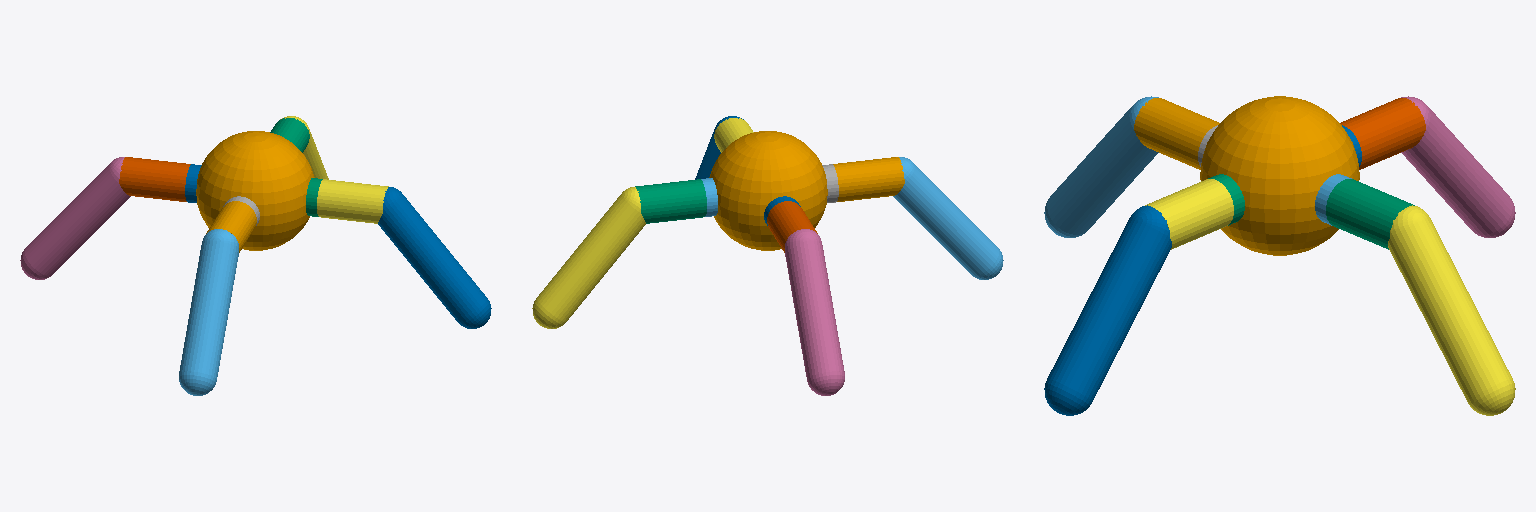
robot.urdf — robot:
<?xml version="0.0" ?>
<robot name="">
	<link name="torso">
		<inertial>
			<origin rpy="0.0 0.0 0.0" xyz="0.0 0.0 0.0"/>
			<mass value="0.32724923"/>
			<inertia ixx="0.00818123" ixy="0.0" ixz="0.0" iyy="0.00818123" iyz="0.0" izz="0.00818123"/>
		</inertial>
		<visual>
			<origin rpy="0.0 0.0 0.0" xyz="0.0 0.0 0.0"/>
			<geometry>
				<sphere radius="0.25"/>
			</geometry>
		</visual>
		<collision>
			<origin rpy="0.0 0.0 0.0" xyz="0.0 0.0 0.0"/>
			<geometry>
				<sphere radius="0.25"/>
			</geometry>
		</collision>
	</link>
	<link name="front_left_leg">
		<inertial>
			<origin rpy="1.57079633 -0.78539816 -0.78539816" xyz="0.10 0.10 0.0"/>
			<mass value="0.03647693"/>  <!-- capsule volume * density : pi * radius ** 2 * ((4/3) * radius + length) * density -->
			<inertia ixx="0.00045856" ixy="0.0" ixz="0.0" iyy="0.00045856" iyz="0.0" izz="0.00011673"/>
		</inertial>
		<visual>
			<origin rpy="1.57079633 -0.78539816 -0.78539816" xyz="0.10 0.10 0.0"/>  <!-- rpy : (-pi/2, pi/4, -pi/4) -->
			<geometry>
				<cylinder length="0.28284" radius="0.08"/>
			</geometry>
		</visual>
	</link>
	<link name="aux_1">
		<inertial>
			<origin rpy="1.57079633 -0.78539816 -0.78539816" xyz="0.10 0.10 0.0"/>
			<mass value="0.03647693"/>
			<inertia ixx="0.00045856" ixy="0.0" ixz="0.0" iyy="0.00045856" iyz="0.0" izz="0.00011673"/>
		</inertial>
		<visual>
			<origin rpy="1.57079633 -0.78539816 -0.78539816" xyz="0.0 0.0 0.0"/>
			<geometry>
				<sphere radius="0.08"/>
			</geometry>
		</visual>
		<visual>
			<origin rpy="1.57079633 -0.78539816 -0.78539816" xyz="0.10 0.10 0.0"/>
			<geometry>
				<cylinder length="0.28284" radius="0.08"/>
			</geometry>
		</visual>
	</link>
	<link name="foot_1">
		<inertial>
			<origin rpy="1.57079633 -0.78539816 -0.78539816" xyz="0.20 0.20 0.0"/>
			<mass value="0.06491138"/>
			<inertia ixx="0.00235904" ixy="0.0" ixz="0.0" iyy="0.00235904" iyz="0.0" izz="0.00020772"/>
		</inertial>
		<visual>
			<origin rpy="0.0 0.0 0.0" xyz="0.0 0.0 0.0"/>
			<geometry>
				<sphere radius="0.08"/>
			</geometry>
		</visual>
		<visual>
			<origin rpy="1.57079633 -0.78539816 -0.78539816" xyz="0.20 0.20 0.0"/>
			<geometry>
				<cylinder length="0.56569" radius="0.08"/>
			</geometry>
		</visual>
		<visual>
			<origin rpy="1.57079633 -0.78539816 -0.78539816" xyz="0.40 0.40 0.0"/>
			<geometry>
				<sphere radius="0.08"/>
			</geometry>
		</visual>
		<collision>
			<origin rpy="0.0 0.0 0.0" xyz="0.0 0.0 0.0"/>
			<geometry>
				<sphere radius="0.08"/>
			</geometry>
		</collision>
		<collision>
			<origin rpy="1.57079633 -0.78539816 -0.78539816" xyz="0.40 0.40 0.0"/>
			<geometry>
				<sphere radius="0.08"/>
			</geometry>
		</collision>
	</link>
	<link name="front_right_leg">
		<inertial>
			<origin rpy="1.57079633 0.78539816 0.78539816" xyz="-0.10 0.10 0.0"/>
			<mass value="0.03647693"/>
			<inertia ixx="0.00045856" ixy="0.0" ixz="0.0" iyy="0.00045856" iyz="0.0" izz="0.00011673"/>
		</inertial>
		<visual>
			<origin rpy="1.57079633 0.78539816 0.78539816" xyz="-0.10 0.10 0.0"/>
			<geometry>
				<cylinder length="0.28284" radius="0.08"/>
			</geometry>
		</visual>
	</link>
	<link name="aux_2">
		<inertial>
			<origin rpy="1.57079633 0.78539816 0.78539816" xyz="-0.10 0.10 0.0"/>
			<mass value="0.03647693"/>
			<inertia ixx="0.00045856" ixy="0.0" ixz="0.0" iyy="0.00045856" iyz="0.0" izz="0.00011673"/>
		</inertial>
		<visual>
			<origin rpy="1.57079633 0.78539816 0.78539816" xyz="0.0 0.0 0.0"/>
			<geometry>
				<sphere radius="0.08"/>
			</geometry>
		</visual>
		<visual>
			<origin rpy="1.57079633 0.78539816 0.78539816" xyz="-0.10 0.10 0.0"/>
			<geometry>
				<cylinder length="0.28284" radius="0.08"/>
			</geometry>
		</visual>
	</link>
	<link name="foot_2">
		<inertial>
			<origin rpy="1.57079633 0.78539816 0.78539816" xyz="-0.20 0.20 0.0"/>
			<mass value="0.06491138"/>
			<inertia ixx="0.00235904" ixy="0.0" ixz="0.0" iyy="0.00235904" iyz="0.0" izz="0.00020772"/>
		</inertial>
		<visual>
			<origin rpy="0.0 0.0 0.0" xyz="0.0 0.0 0.0"/>
			<geometry>
				<sphere radius="0.08"/>
			</geometry>
		</visual>
		<visual>
			<origin rpy="1.57079633 0.78539816 0.78539816" xyz="-0.20 0.20 0.0"/>
			<geometry>
				<cylinder length="0.56569" radius="0.08"/>  <!-- length = sqrt(2) * 0.4  -->
			</geometry>
		</visual>
		<visual>
			<origin rpy="1.57079633 0.78539816 0.78539816" xyz="-0.40 0.40 0.0"/>
			<geometry>
				<sphere radius="0.08"/>
			</geometry>
		</visual>
		<collision>
			<origin rpy="0.0 0.0 0.0" xyz="0.0 0.0 0.0"/>
			<geometry>
				<sphere radius="0.08"/>
			</geometry>
		</collision>
		<collision>
			<origin rpy="1.57079633 0.78539816 0.78539816" xyz="-0.40 0.40 0.0"/>
			<geometry>
				<sphere radius="0.08"/>
			</geometry>
		</collision>
	</link>
	<link name="back_leg">
		<inertial>
			<origin rpy="-1.57079633 0.78539816 -0.78539816" xyz="-0.10 -0.10 0.0"/>
			<mass value="0.03647693"/>
			<inertia ixx="0.00045856" ixy="0.0" ixz="0.0" iyy="0.00045856" iyz="0.0" izz="0.00011673"/>
		</inertial>
		<visual>
			<origin rpy="-1.57079633 0.78539816 -0.78539816" xyz="-0.10 -0.10 0.0"/>
			<geometry>
				<cylinder length="0.28284" radius="0.08"/>  <!-- length = sqrt(2) * 0.2  -->
			</geometry>
		</visual>
	</link>
	<link name="aux_3">
		<inertial>
			<origin rpy="-1.57079633 0.78539816 -0.78539816" xyz="-0.10 -0.10 0.0"/>
			<mass value="0.03647693"/>
			<inertia ixx="0.00045856" ixy="0.0" ixz="0.0" iyy="0.00045856" iyz="0.0" izz="0.00011673"/>
		</inertial>
		<visual>
			<origin rpy="-1.57079633 0.78539816 -0.78539816" xyz="0.0 0.0 0.0"/>
			<geometry>
				<sphere radius="0.08"/>
			</geometry>
		</visual>
		<visual>
			<origin rpy="-1.57079633 0.78539816 -0.78539816" xyz="-0.10 -0.10 0.0"/>
			<geometry>
				<cylinder length="0.28284" radius="0.08"/>
			</geometry>
		</visual>
	</link>
	<link name="foot_3">
		<inertial>
			<origin rpy="-1.57079633 0.78539816 -0.78539816" xyz="-0.20 -0.20 0.0"/>
			<mass value="0.06491138"/>
			<inertia ixx="0.00235904" ixy="0.0" ixz="0.0" iyy="0.00235904" iyz="0.0" izz="0.00020772"/>
		</inertial>
		<visual>
			<origin rpy="0.0 0.0 0.0" xyz="0.0 0.0 0.0"/>
			<geometry>
				<sphere radius="0.08"/>
			</geometry>
		</visual>
		<visual>
			<origin rpy="-1.57079633 0.78539816 -0.78539816" xyz="-0.20 -0.20 0.0"/>
			<geometry>
				<cylinder length="0.56569" radius="0.08"/>
			</geometry>
		</visual>
		<visual>
			<origin rpy="-1.57079633 0.78539816 -0.78539816" xyz="-0.40 -0.40 0.0"/>
			<geometry>
				<sphere radius="0.08"/>
			</geometry>
		</visual>
		<collision>
			<origin rpy="0.0 0.0 0.0" xyz="0.0 0.0 0.0"/>
			<geometry>
				<sphere radius="0.08"/>
			</geometry>
		</collision>
		<collision>
			<origin rpy="-1.57079633 0.78539816 -0.78539816" xyz="-0.40 -0.40 0.0"/>
			<geometry>
				<sphere radius="0.08"/>
			</geometry>
		</collision>
	</link>
	<link name="right_back_leg">
		<inertial>
			<origin rpy="-1.57079633 -0.78539816 0.78539816" xyz="0.10 -0.10 0.0"/>
			<mass value="0.03647693"/>
			<inertia ixx="0.00045856" ixy="0.0" ixz="0.0" iyy="0.00045856" iyz="0.0" izz="0.00011673"/>
		</inertial>
		<visual>
			<origin rpy="-1.57079633 -0.78539816 0.78539816" xyz="0.10 -0.10 0.0"/>
			<geometry>
				<cylinder length="0.28284" radius="0.08"/>
			</geometry>
		</visual>
	</link>
	<link name="aux_4">
		<inertial>
			<origin rpy="-1.57079633 -0.78539816 0.78539816" xyz="0.10 -0.10 0.0"/>
			<mass value="0.03647693"/>
			<inertia ixx="0.00045856" ixy="0.0" ixz="0.0" iyy="0.00045856" iyz="0.0" izz="0.00011673"/>
		</inertial>
		<visual>
			<origin rpy="-1.57079633 -0.78539816 0.78539816" xyz="0.0 0.0 0.0"/>
			<geometry>
				<sphere radius="0.08"/>
			</geometry>
		</visual>
		<visual>
			<origin rpy="-1.57079633 -0.78539816 0.78539816" xyz="0.10 -0.10 0.0"/>
			<geometry>
				<cylinder length="0.28284" radius="0.08"/>
			</geometry>
		</visual>
	</link>
	<link name="foot_4">
		<inertial>
			<origin rpy="-1.57079633 -0.78539816 0.78539816" xyz="0.20 -0.20 0.0"/>
			<mass value="0.06491138"/>
			<inertia ixx="0.00235904" ixy="0.0" ixz="0.0" iyy="0.00235904" iyz="0.0" izz="0.00020772"/>
		</inertial>
		<visual>
			<origin rpy="0.0 0.0 0.0" xyz="0.0 0.0 0.0"/>
			<geometry>
				<sphere radius="0.08"/>
			</geometry>
		</visual>
		<visual>
			<origin rpy="-1.57079633 -0.78539816 0.78539816" xyz="0.20 -0.20 0.0"/>
			<geometry>
				<cylinder length="0.56569" radius="0.08"/>
			</geometry>
		</visual>
		<visual>
			<origin rpy="-1.57079633 -0.78539816 0.78539816" xyz="0.40 -0.40 0.0"/>
			<geometry>
				<sphere radius="0.08"/>
			</geometry>
		</visual>
		<collision>
			<origin rpy="0.0 0.0 0.0" xyz="0.0 0.0 0.0"/>
			<geometry>
				<sphere radius="0.08"/>
			</geometry>
		</collision>
		<collision>
			<origin rpy="-1.57079633 -0.78539816 0.78539816" xyz="0.40 -0.40 0.0"/>
			<geometry>
				<sphere radius="0.08"/>
			</geometry>
		</collision>
	</link>

	<joint name="leg_1" type="fixed">
		<origin rpy="0.0 0.0 0.0" xyz="0.0 0.0 0.0"/>
		<parent link="torso"/>
		<child link="front_left_leg"/>
	</joint>
	<joint name="hip_1" type="revolute">
		<origin rpy="0.0 0.0 0.0" xyz="0.20 0.20 0.0"/>
		<axis xyz="0 0 1"/>
		<parent link="front_left_leg"/>
		<child link="aux_1"/>
    	<limit effort="150.0" velocity="1000.0" lower="-0.5236" upper="0.5236"/>  <!-- +/- 30 degrees | no velocity limit -->
	</joint>
	<joint name="ankle_1" type="revolute">
		<origin rpy="0.0 0.0 0.0" xyz="0.20 0.20 0.0"/>
		<axis xyz="-1 1 0"/>
		<parent link="aux_1"/>
		<child link="foot_1"/>
    	<limit effort="150.0" velocity="1000.0" lower="0.5236" upper="1.2217"/>  <!-- 30/70 degrees | no velocity limit -->
	</joint>
	<joint name="tip_joint_1" type="fixed">
		<origin rpy="1.57079633 -0.78539816 -0.78539816" xyz="0.40 0.40 0.0"/>
		<parent link="foot_1"/>
		<child link="tip_1"/>
	</joint>
	<link name="tip_1"/>
	<joint name="leg_2" type="fixed">
		<origin rpy="0.0 0.0 0.0" xyz="0.0 0.0 0.0"/>
		<parent link="torso"/>
		<child link="front_right_leg"/>
	</joint>
	<joint name="hip_2" type="revolute">
		<origin rpy="0.0 0.0 0.0" xyz="-0.20 0.20 0.0"/>
		<axis xyz="0 0 1"/>
		<parent link="front_right_leg"/>
		<child link="aux_2"/>
    	<limit effort="150.0" velocity="1000.0" lower="-0.5236" upper="0.5236"/>  <!-- +/- 30 degrees | no velocity limit -->
	</joint>
	<joint name="ankle_2" type="revolute">
		<origin rpy="0.0 0.0 0.0" xyz="-0.20 0.20 0.0"/>
		<axis xyz="1 1 0"/>
		<parent link="aux_2"/>
		<child link="foot_2"/>
    	<limit effort="150.0" velocity="1000.0" lower="-1.2217" upper="-0.5236"/>  <!-- -70/-30 degrees | no velocity limit -->
	</joint>
	<joint name="tip_joint_2" type="fixed">
		<origin rpy="1.57079633 0.78539816 0.78539816" xyz="-0.40 0.40 0.0"/>
		<parent link="foot_2"/>
		<child link="tip_2"/>
	</joint>
	<link name="tip_2"/>
	<joint name="leg_3" type="fixed">
		<origin rpy="0.0 0.0 0.0" xyz="0.0 0.0 0.0"/>
		<parent link="torso"/>
		<child link="back_leg"/>
	</joint>
	<joint name="hip_3" type="revolute">
		<origin rpy="0.0 0.0 0.0" xyz="-0.20 -0.20 0.0"/>
		<axis xyz="0 0 1"/>
		<parent link="back_leg"/>
		<child link="aux_3"/>
    	<limit effort="150.0" velocity="1000.0" lower="-0.5236" upper="0.5236"/>  <!-- +/- 30 degrees | no velocity limit -->
	</joint>
	<joint name="ankle_3" type="revolute">
		<origin rpy="0.0 0.0 0.0" xyz="-0.20 -0.20 0.0"/>
		<axis xyz="-1 1 0"/>
		<parent link="aux_3"/>
		<child link="foot_3"/>
    	<limit effort="150.0" velocity="1000.0" lower="-1.2217" upper="-0.5236"/>  <!-- -70/-30 degrees | no velocity limit -->
	</joint>
	<joint name="tip_joint_3" type="fixed">
		<origin rpy="-1.57079633 0.78539816 -0.78539816" xyz="-0.40 -0.40 0.0"/>
		<parent link="foot_3"/>
		<child link="tip_3"/>
	</joint>
	<link name="tip_3"/>
	<joint name="leg_4" type="fixed">
		<origin rpy="0.0 0.0 0.0" xyz="0.0 0.0 0.0"/>
		<parent link="torso"/>
		<child link="right_back_leg"/>
	</joint>
	<joint name="hip_4" type="revolute">
		<origin rpy="0.0 0.0 0.0" xyz="0.20 -0.20 0.0"/>
		<axis xyz="0 0 1"/>
		<parent link="right_back_leg"/>
		<child link="aux_4"/>
    	<limit effort="150.0" velocity="1000.0" lower="-0.5236" upper="0.5236"/>  <!-- +/- 30 degrees | no velocity limit -->
	</joint>
	<joint name="ankle_4" type="revolute">
		<origin rpy="0.0 0.0 0.0" xyz="0.20 -0.20 0.0"/>
		<axis xyz="1 1 0"/>
		<parent link="aux_4"/>
		<child link="foot_4"/>
    	<limit effort="150.0" velocity="1000.0" lower="0.5236" upper="1.2217"/>  <!-- +30/+70 degrees | no velocity limit -->
	</joint>
	<joint name="tip_joint_4" type="fixed">
		<origin rpy="-1.57079633 -0.78539816 0.78539816" xyz="0.40 -0.40 0.0"/>
		<parent link="foot_4"/>
		<child link="tip_4"/>
	</joint>
	<link name="tip_4"/>
</robot>

--- Render facts (derived) ---
The picture shows the robot from 3 angles, left to right: view 1: azimuth 30°, elevation 25°; view 2: azimuth 150°, elevation 25°; view 3: azimuth 270°, elevation 25°; orthographic projection.
Robot: robot — 17 links, 16 joints (8 revolute, 8 fixed); root link torso; default pose: joints at zero except 4 at the middle of their limits (ankle_1 = 0.8727, ankle_2 = -0.8727, ankle_3 = -0.8727, ankle_4 = 0.8727).
Visible links, largest first — view 1: torso, foot_3, foot_4, foot_2, aux_4, aux_2, aux_3, aux_1, foot_1; view 2: torso, foot_2, foot_1, foot_3, aux_1, aux_3, aux_2, aux_4, foot_4; view 3: torso, foot_1, foot_4, foot_2, foot_3, aux_1, aux_4, aux_2, aux_3, front_left_leg, right_back_leg.
Boxes of the visible links, x1,y1,x2,y2 form: torso: (196,131,314,250); foot_3: (179,229,238,395); foot_4: (378,187,491,328); foot_2: (20,157,130,279); aux_4: (317,179,388,223); aux_2: (119,157,190,201); aux_3: (206,201,256,252); aux_1: (270,118,309,152); foot_1: (280,116,328,179); torso: (709,131,827,250); foot_2: (785,229,844,395); foot_1: (532,187,645,328); foot_3: (893,157,1003,279); aux_1: (635,179,706,223); aux_3: (833,157,904,201); aux_2: (767,201,817,252); aux_4: (714,118,753,152); foot_4: (695,116,743,179); torso: (1200,96,1359,255); foot_1: (1388,205,1515,415); foot_4: (1044,205,1171,415); foot_2: (1401,96,1515,237); foot_3: (1044,96,1158,237); aux_1: (1326,179,1414,249); aux_4: (1145,179,1233,249); aux_2: (1340,98,1425,169); aux_3: (1134,98,1219,169); front_left_leg: (1315,174,1351,225); right_back_leg: (1208,174,1244,225).
Size in the robot's own frame: 1.47 by 1.47 by 0.763 metres.
Geometry: primitives only (box / cylinder / sphere), no mesh files.